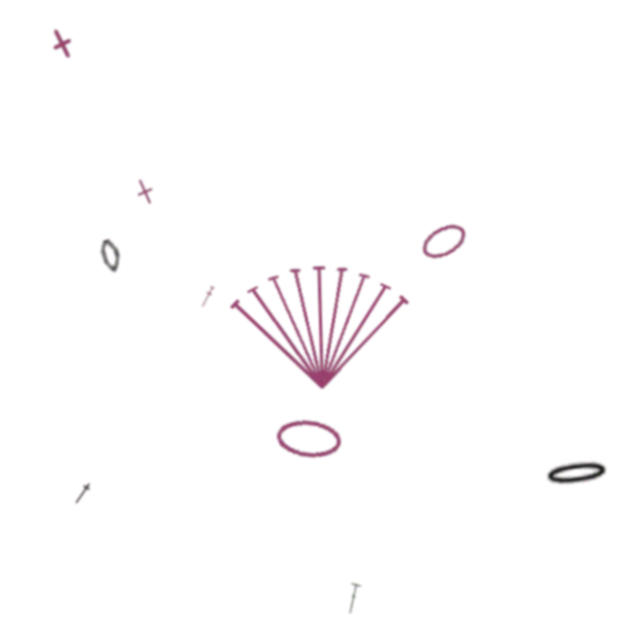chain: (270, 415, 339, 462), (419, 222, 473, 268), (536, 465, 608, 499), (100, 231, 126, 268)
double: (334, 583, 353, 615)
fan: (225, 248, 415, 391)
half_double: (64, 472, 90, 500), (199, 282, 217, 305)
single: (48, 13, 93, 58), (131, 168, 167, 204)
